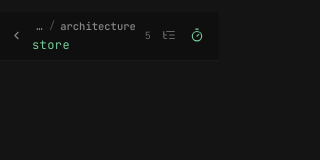
Test: LibraryHeader — location › drops the root before the parent when narrow
Expected: the elements with test id "ancestor-seg" read "architecture", in this order, [57,16,139,34]
Click the button with test id "crumb-overflow".
click(39, 26)  # box [32,19,47,32]
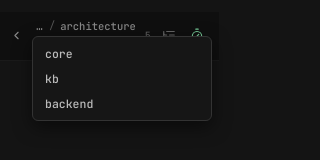
Expected: the menu items read "core", "kb", "backend", in this order, [37,41,207,66]; [37,66,207,91]; [37,91,207,116]
